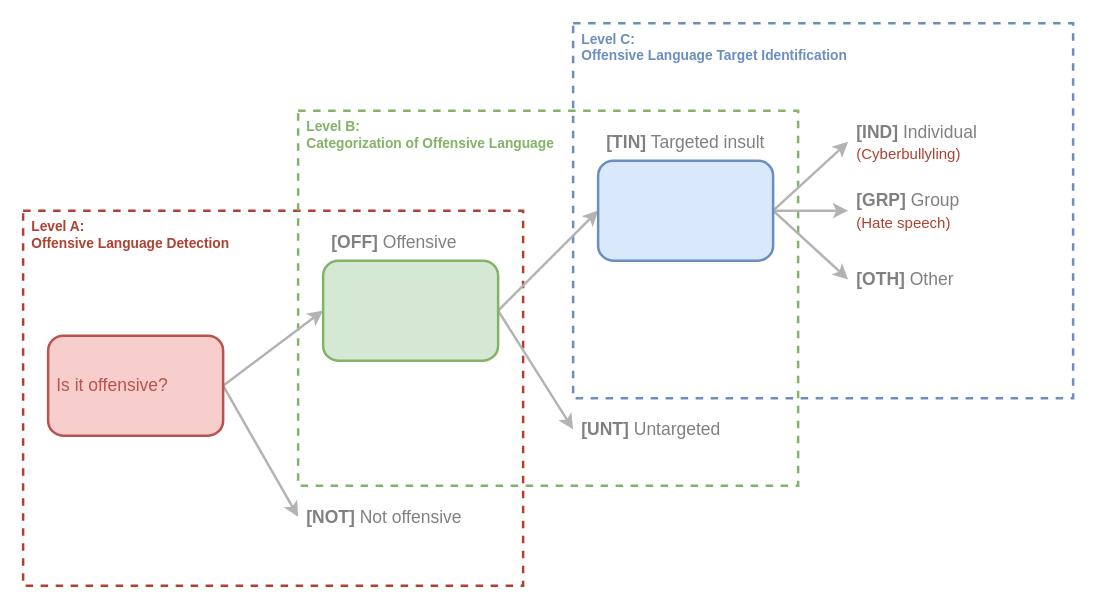
Some shapes in this 1095 by 608 pixel diagram are drawn without their labels. The shapes that lost their labels are listed below. From the top down, each one's centre as x and y in pixels, then its label:
At pixel 685 210: "What is the target of the offense?".
At pixel 410 310: "Is the offensive text targeted?".
